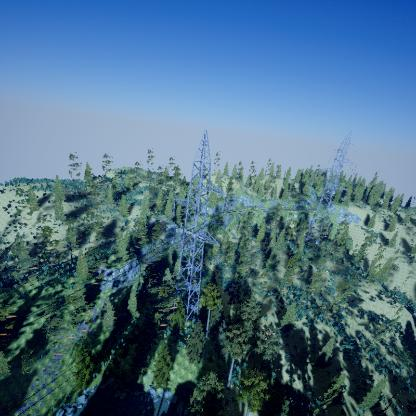tower: (169, 129, 230, 314), (302, 129, 357, 245)
